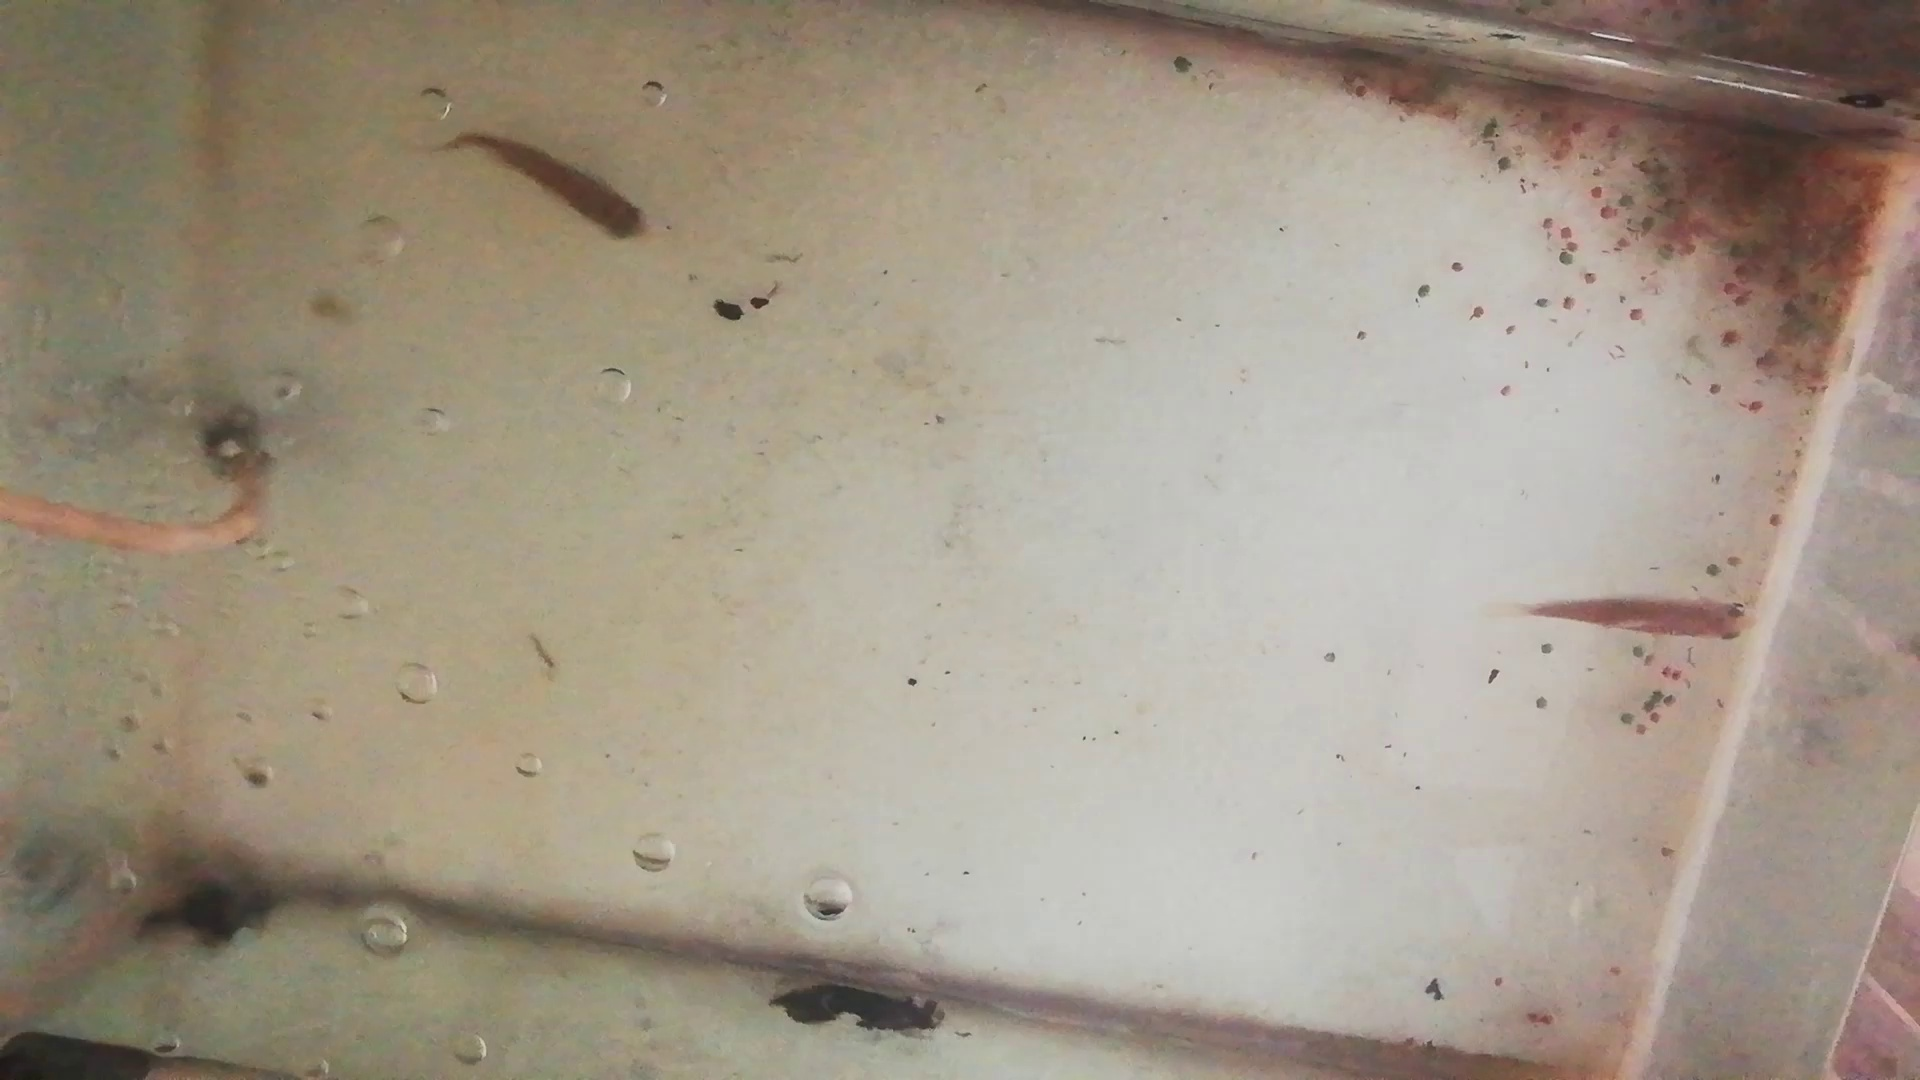fish: (452, 135, 645, 247), (1524, 592, 1758, 646)
